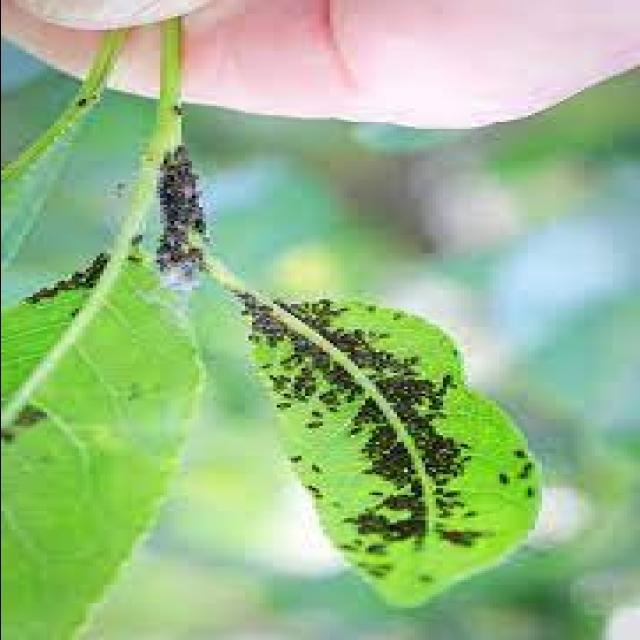aphid: (124, 230, 152, 253), (460, 508, 488, 528), (438, 376, 466, 396), (124, 252, 152, 272), (304, 408, 332, 426), (343, 424, 371, 442), (174, 145, 202, 163), (191, 219, 216, 239), (304, 417, 329, 437), (417, 573, 442, 592), (512, 449, 538, 467), (512, 470, 538, 488), (286, 456, 312, 474), (374, 330, 400, 348), (304, 486, 329, 504), (166, 104, 191, 122), (74, 97, 99, 115), (350, 384, 375, 402), (442, 488, 470, 504), (492, 474, 516, 492), (520, 488, 544, 506), (308, 465, 332, 483), (368, 488, 392, 506), (255, 359, 282, 375), (255, 304, 282, 320), (456, 442, 481, 458), (375, 564, 403, 578), (64, 306, 88, 322), (262, 338, 286, 354), (272, 401, 297, 416), (364, 304, 386, 320), (389, 310, 414, 324), (435, 410, 456, 426), (350, 536, 371, 552), (74, 274, 96, 288), (460, 456, 481, 470), (410, 488, 428, 504), (326, 405, 346, 419)
